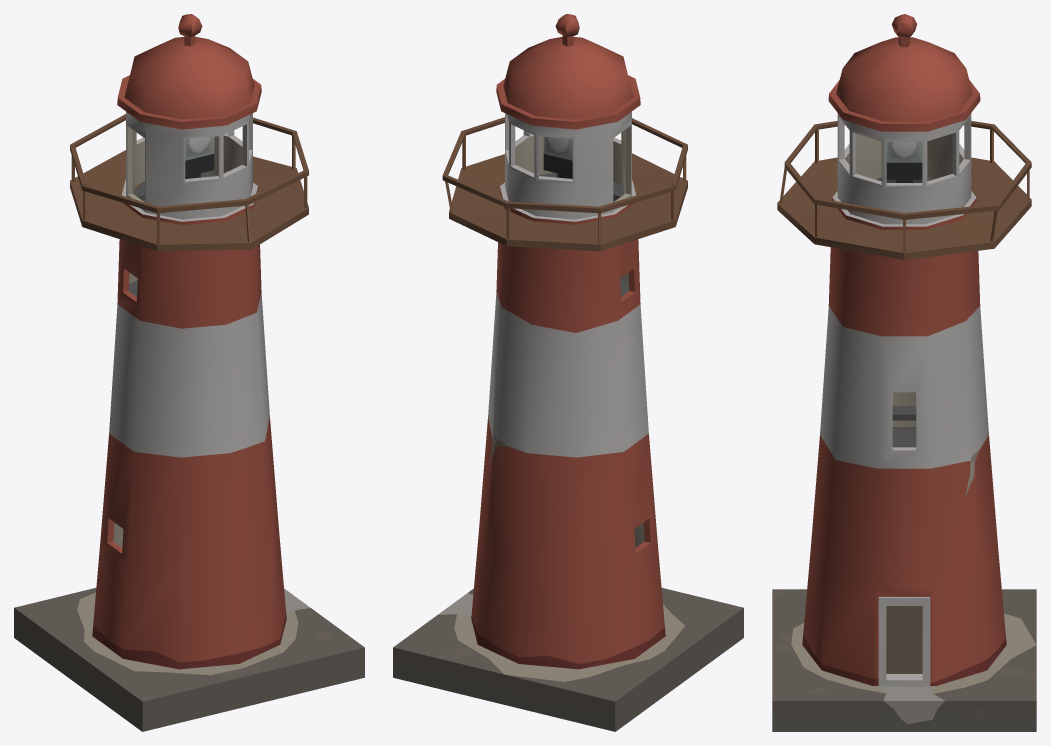
The model's file is folder.glb.
3 renders of one model, left to right at view 1: azimuth 30°, elevation 25°; view 2: azimuth 150°, elevation 25°; view 3: azimuth 270°, elevation 25°, orthographic. The views are drawn at different scales.
Parts seen in each view (by area): view 1: SM_Bld_Lighthouse_01; view 2: SM_Bld_Lighthouse_01; view 3: SM_Bld_Lighthouse_01.
Part boxes in pixels (<box>): SM_Bld_Lighthouse_01: <box>14,14,364,731</box>; SM_Bld_Lighthouse_01: <box>393,14,743,731</box>; SM_Bld_Lighthouse_01: <box>772,14,1036,731</box>.
Size of the model in its own units: 7.49 by 20.7 by 7.49.
Materials: 1 (1 with a texture image).
